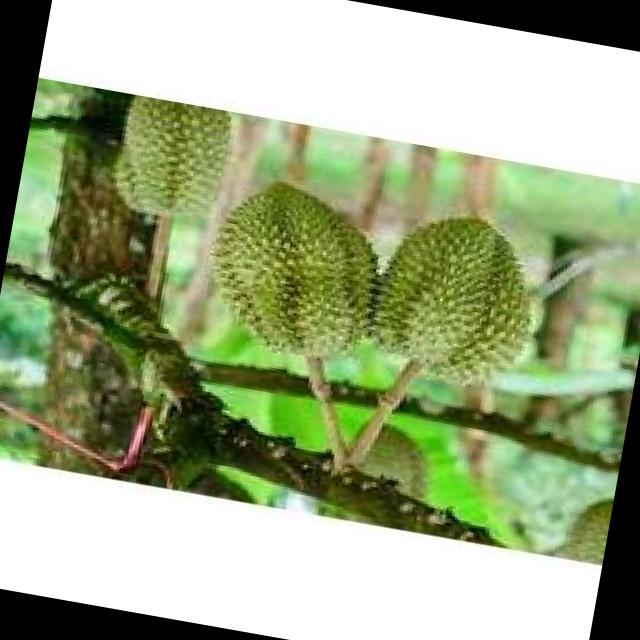fruit: (177, 162, 401, 384), (347, 192, 565, 414)
